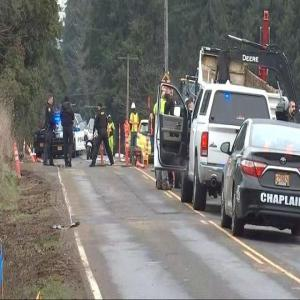none: (288, 98, 298, 119), (167, 82, 175, 98), (47, 93, 55, 108), (188, 96, 195, 111), (97, 101, 104, 113), (64, 96, 70, 108)
white: (131, 102, 137, 113), (109, 114, 113, 123)
